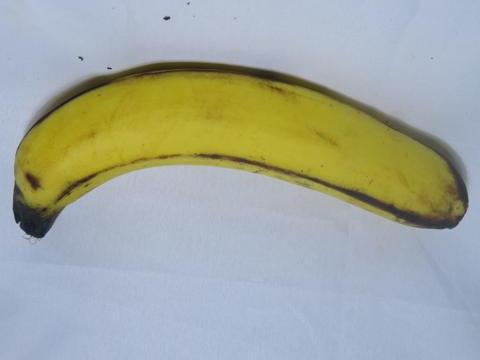ripe: (5, 51, 475, 248)
